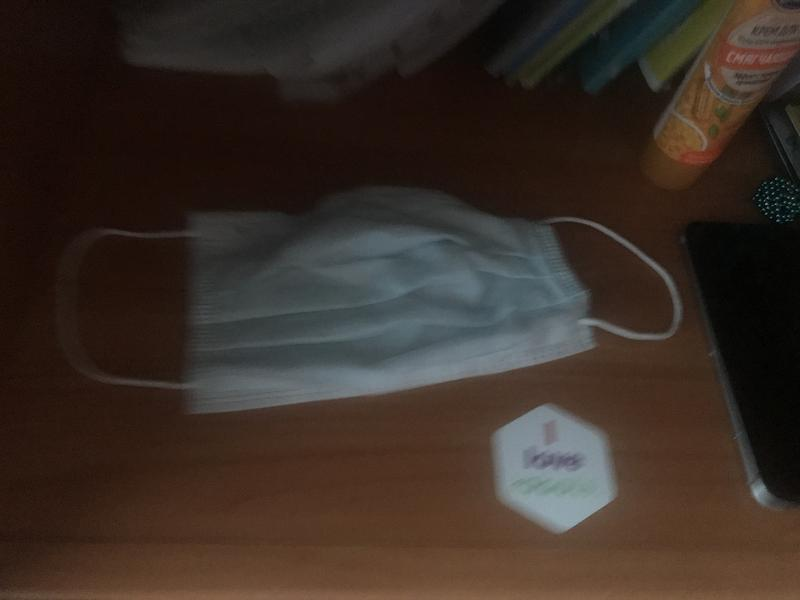medical_mask: (56, 185, 683, 415)
